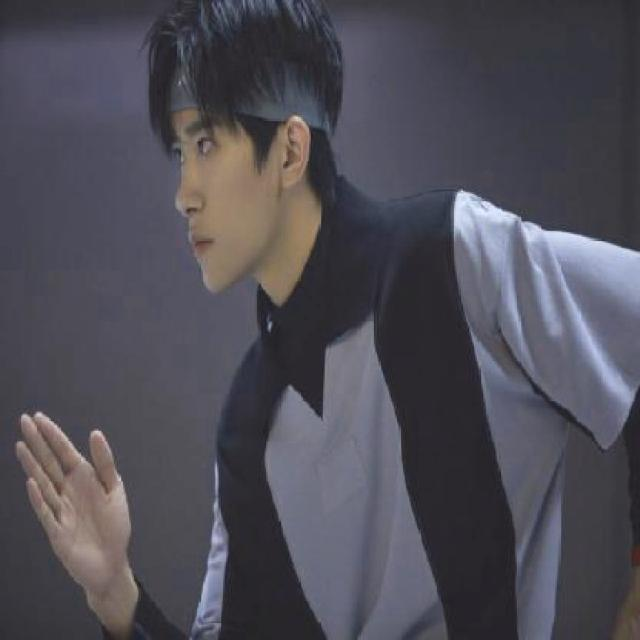face_nomask: (175, 103, 271, 294)
hand_noglove: (14, 409, 134, 591)
head_nohelmet: (133, 2, 344, 120)
person: (1, 6, 640, 640)
